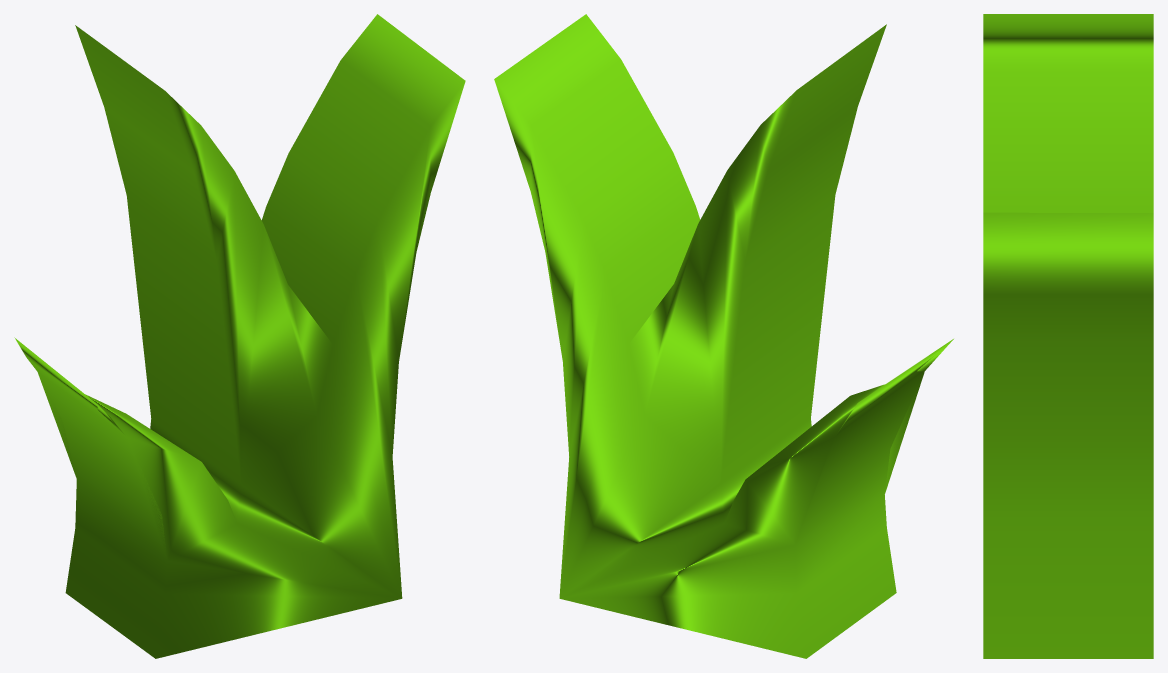
File: gc_4_far.glb
3 renders of one model, left to right at view 1: azimuth 30°, elevation 25°; view 2: azimuth 150°, elevation 25°; view 3: azimuth 270°, elevation 25°, orthographic. The views are drawn at different scales.
Parts seen in each view (by area): view 1: Curve.003_Material.001_0; view 2: Curve.003_Material.001_0; view 3: Curve.003_Material.001_0.
Boxes of the visible parts, x1,y1,x2,y2 form: Curve.003_Material.001_0: (14,14,465,658); Curve.003_Material.001_0: (494,14,953,658); Curve.003_Material.001_0: (983,14,1153,658).
Size of the model in its own units: 0.4358 by 0.6368 by 0.1838.
